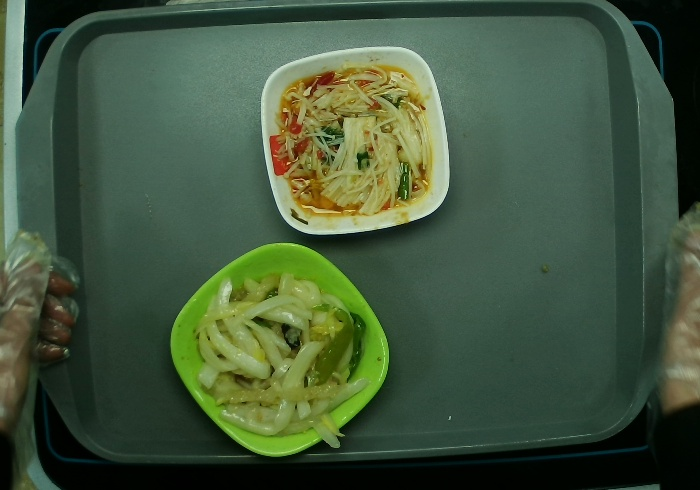SHKJ-Bai_Se_Xiao_Fang_Die: (259, 45, 450, 234)
SHKJ-Lv_Se_Cai_Die: (170, 241, 388, 458)
